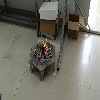fire: (42, 38, 47, 50), (34, 49, 36, 52)
